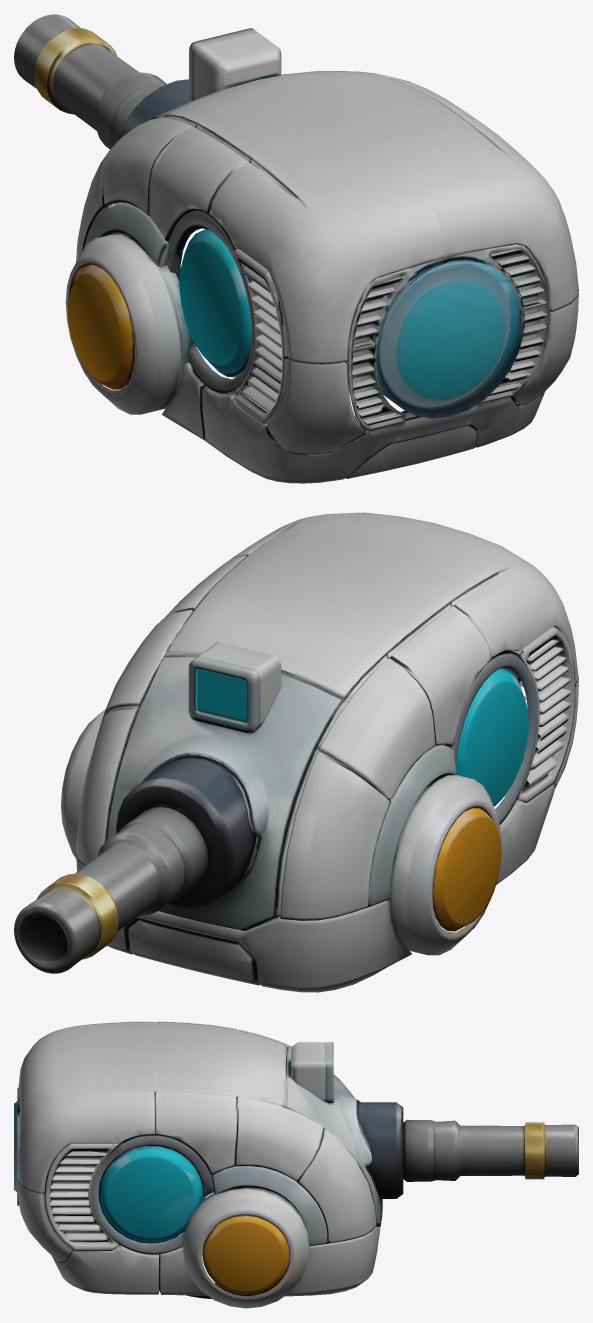
File: turret_gun.glb
The picture shows the model from 3 angles, top to bottom: view 1: azimuth 30°, elevation 25°; view 2: azimuth 150°, elevation 25°; view 3: azimuth 270°, elevation 25°; orthographic projection. The views are drawn at different scales.
Parts seen in each view (by area): view 1: turret_gun; view 2: turret_gun; view 3: turret_gun.
Boxes of the visible parts, x1=… form: turret_gun: x1=14, y1=14, x2=578, y2=483; turret_gun: x1=14, y1=512, x2=578, y2=992; turret_gun: x1=14, y1=1021, x2=578, y2=1308.
Bounding box in the file's own units: 1.42 × 1.15 × 2.62.
1 material, 1 textured.
